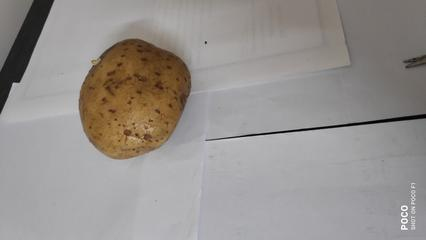potato: (81, 40, 211, 155)
